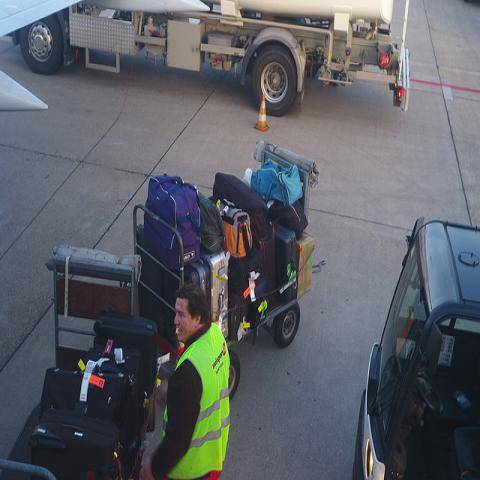bus: (354, 216, 479, 475)
car: (352, 215, 479, 474), (0, 0, 81, 75)
truck: (13, 1, 412, 121)
